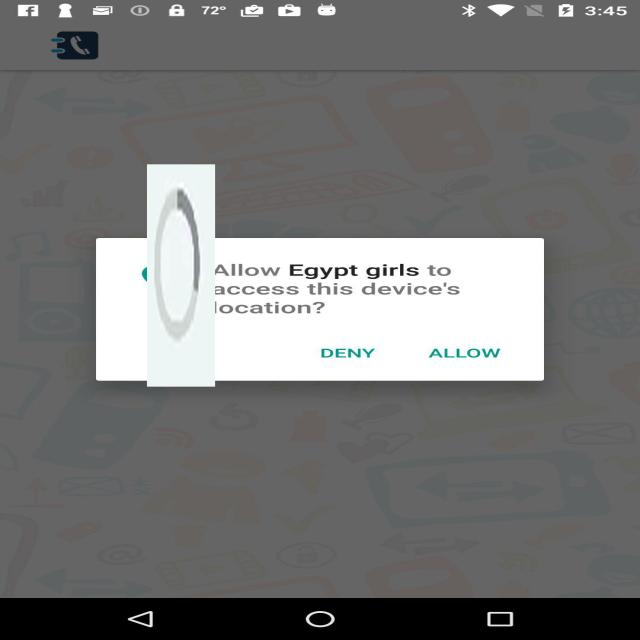misdirection: (147, 164, 215, 387)
